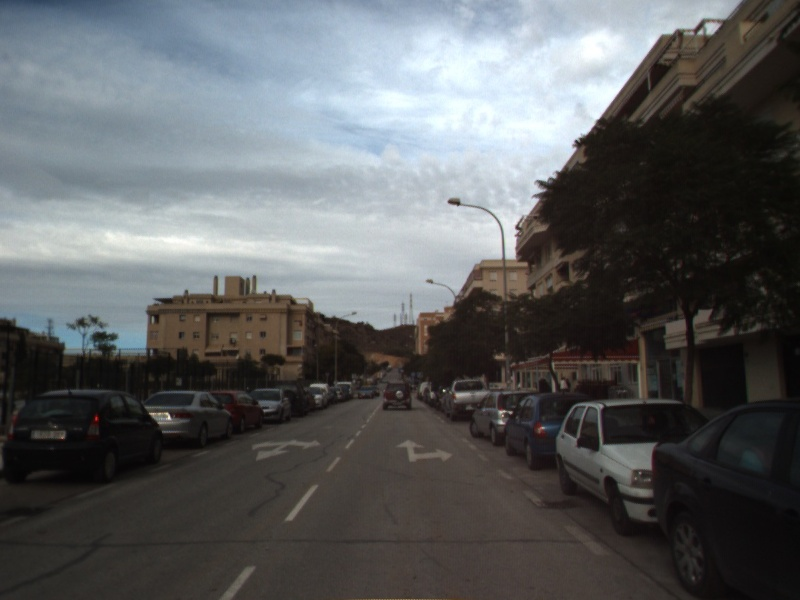STRAIGHT_RIGHT: (393, 437, 455, 464)
